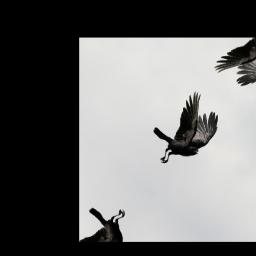Crow: (139, 84, 229, 180)
